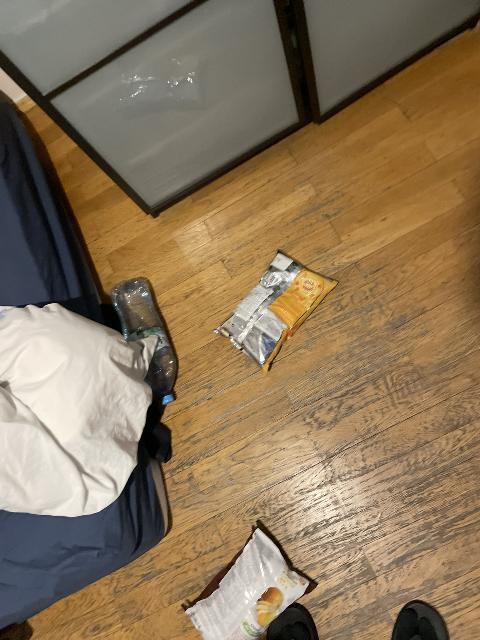Chio Hula Hoops Cheese 70g: (215, 249, 339, 372)
Lays Beef Grilled Ribs 125g: (183, 524, 314, 637)
